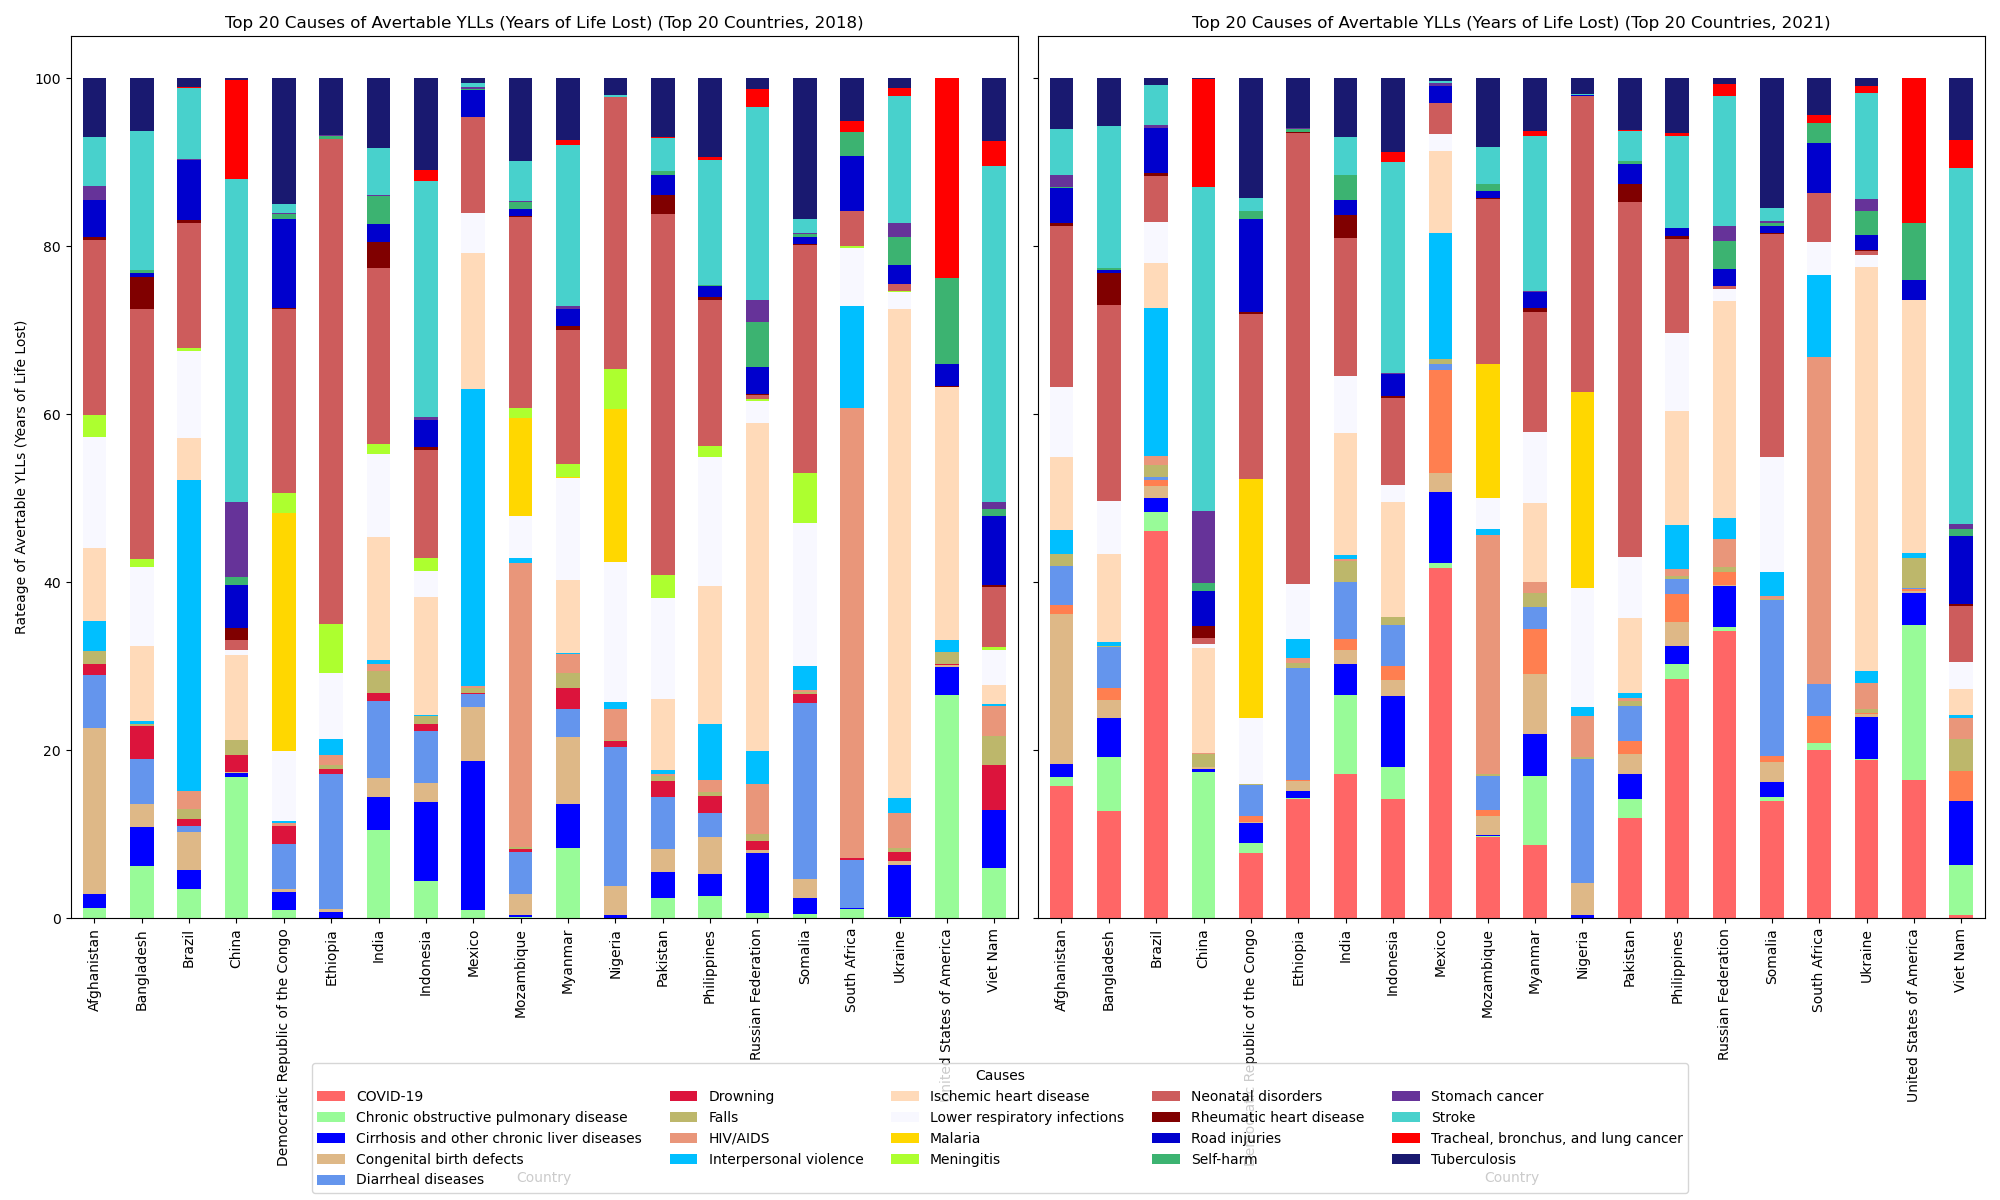

This screenshot's page, from the dashboard's own definition file:
{"tool":"tableau","page":{"name":"Dashboard 13","canvas":[1000,800],"ordinal":4},"visuals":[{"type":"worksheet","title":"Sheet 35","mark":"Automatic","box":[8,8,984,784]},{"type":"legend","title":"Sheet 35","param":"[federated.02kr92z01n08sg13d5hqw0u9ay24].[usr:Calculation_3593239233526333443:qk","box":[846,58,140,76]}]}

Visuals, with their boxes on the page's 1000x800 design canvas (x1, y1, x2, y2). These are canvas units, not pixel positions in the 2000x1200 screenshot, which may show the page scaled, cropped or inside an application window:
"Sheet 35" worksheet: BBox(8, 8, 992, 792)
"Sheet 35" legend: BBox(846, 58, 986, 134)
